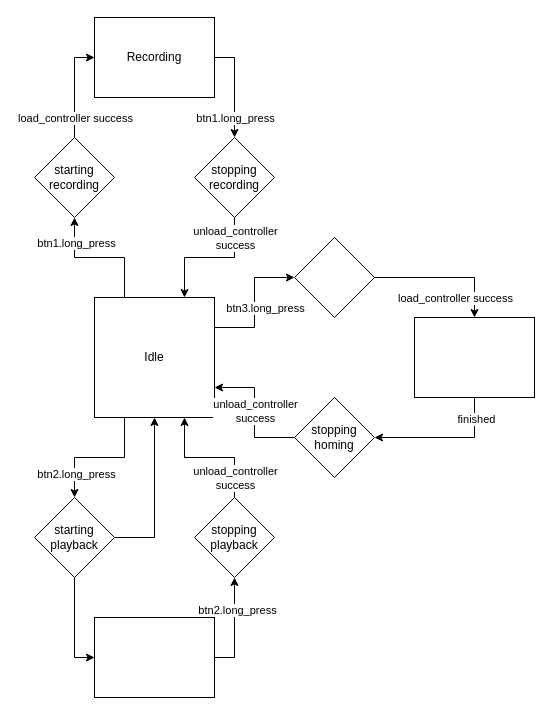
Image size: 552x715. Some labels were removed from this diagram. The shapes that lost their labels are listed below. From the top down, each one's box as (x1, y1, x2, y2) in pixels, then its label:
(294, 236, 374, 318): starting homing
(414, 316, 534, 398): Homing
(94, 616, 214, 698): Playing Back
